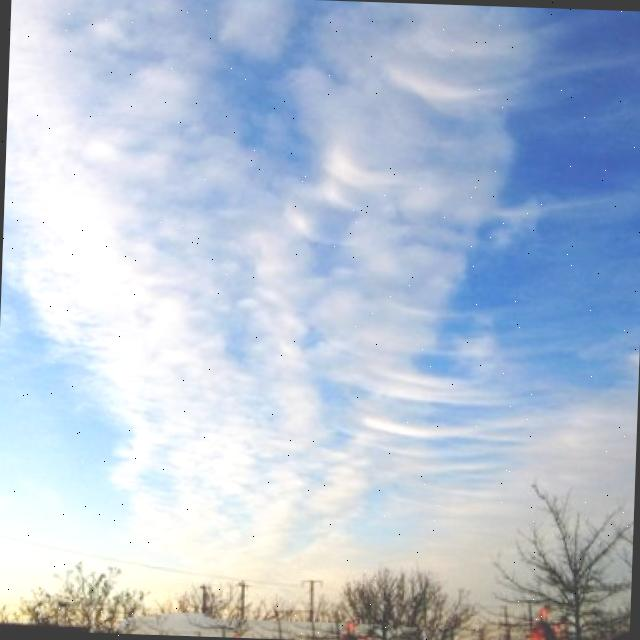Ci: (45, 1, 540, 525)
